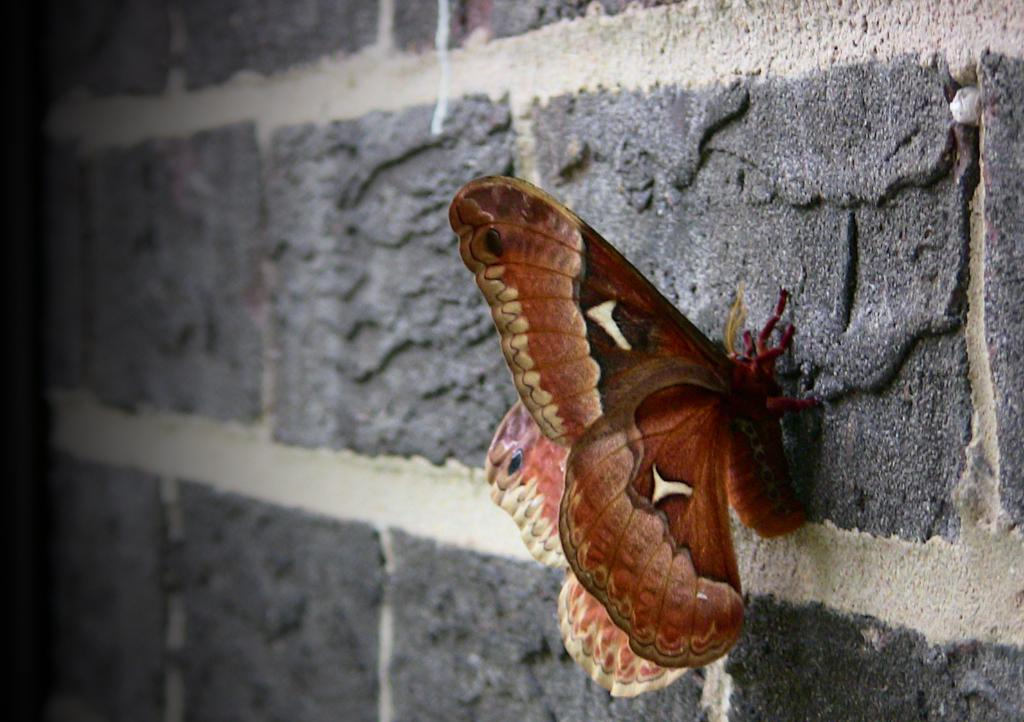Butterfly: (435, 148, 854, 709)
